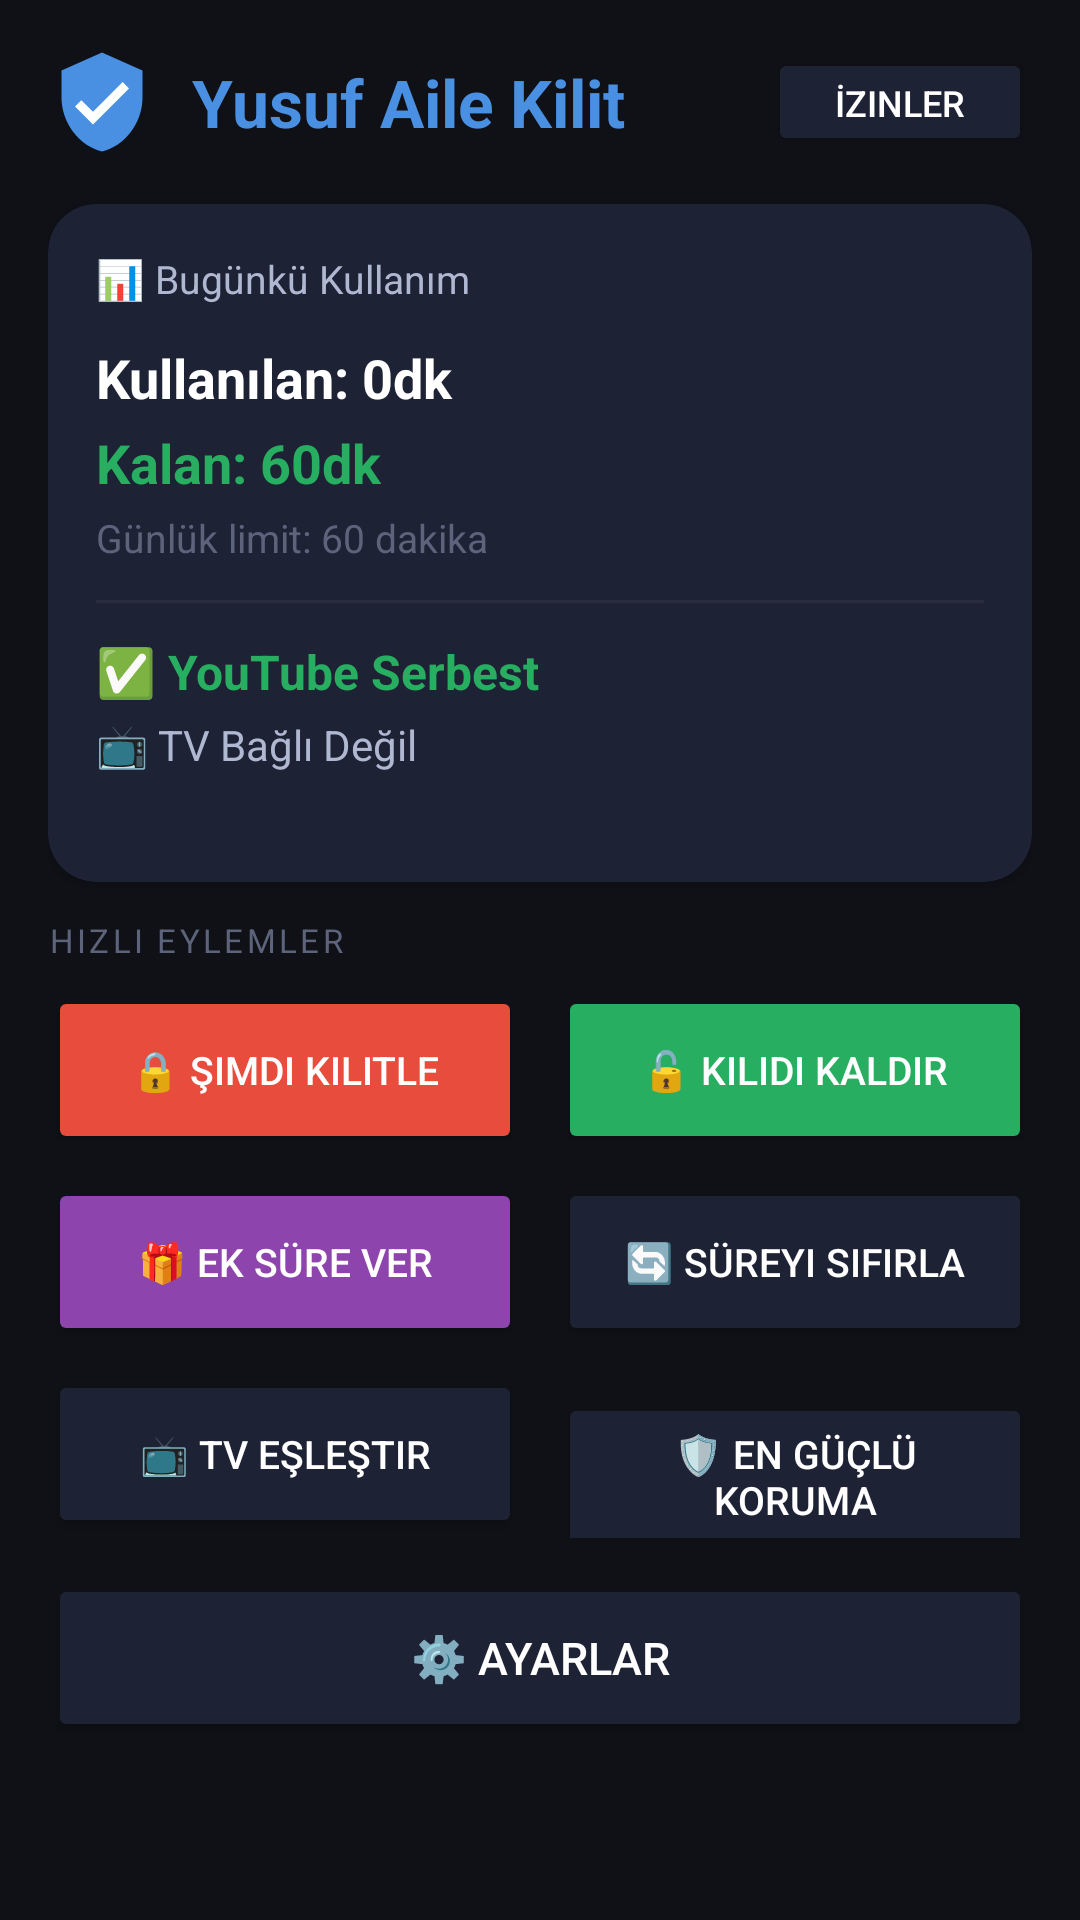

Locate icon controls on the screen. Image size 1080 x 1920, boxes as Rect(x1, y1, x2, y2).
shield: Rect(61, 52, 143, 152)
